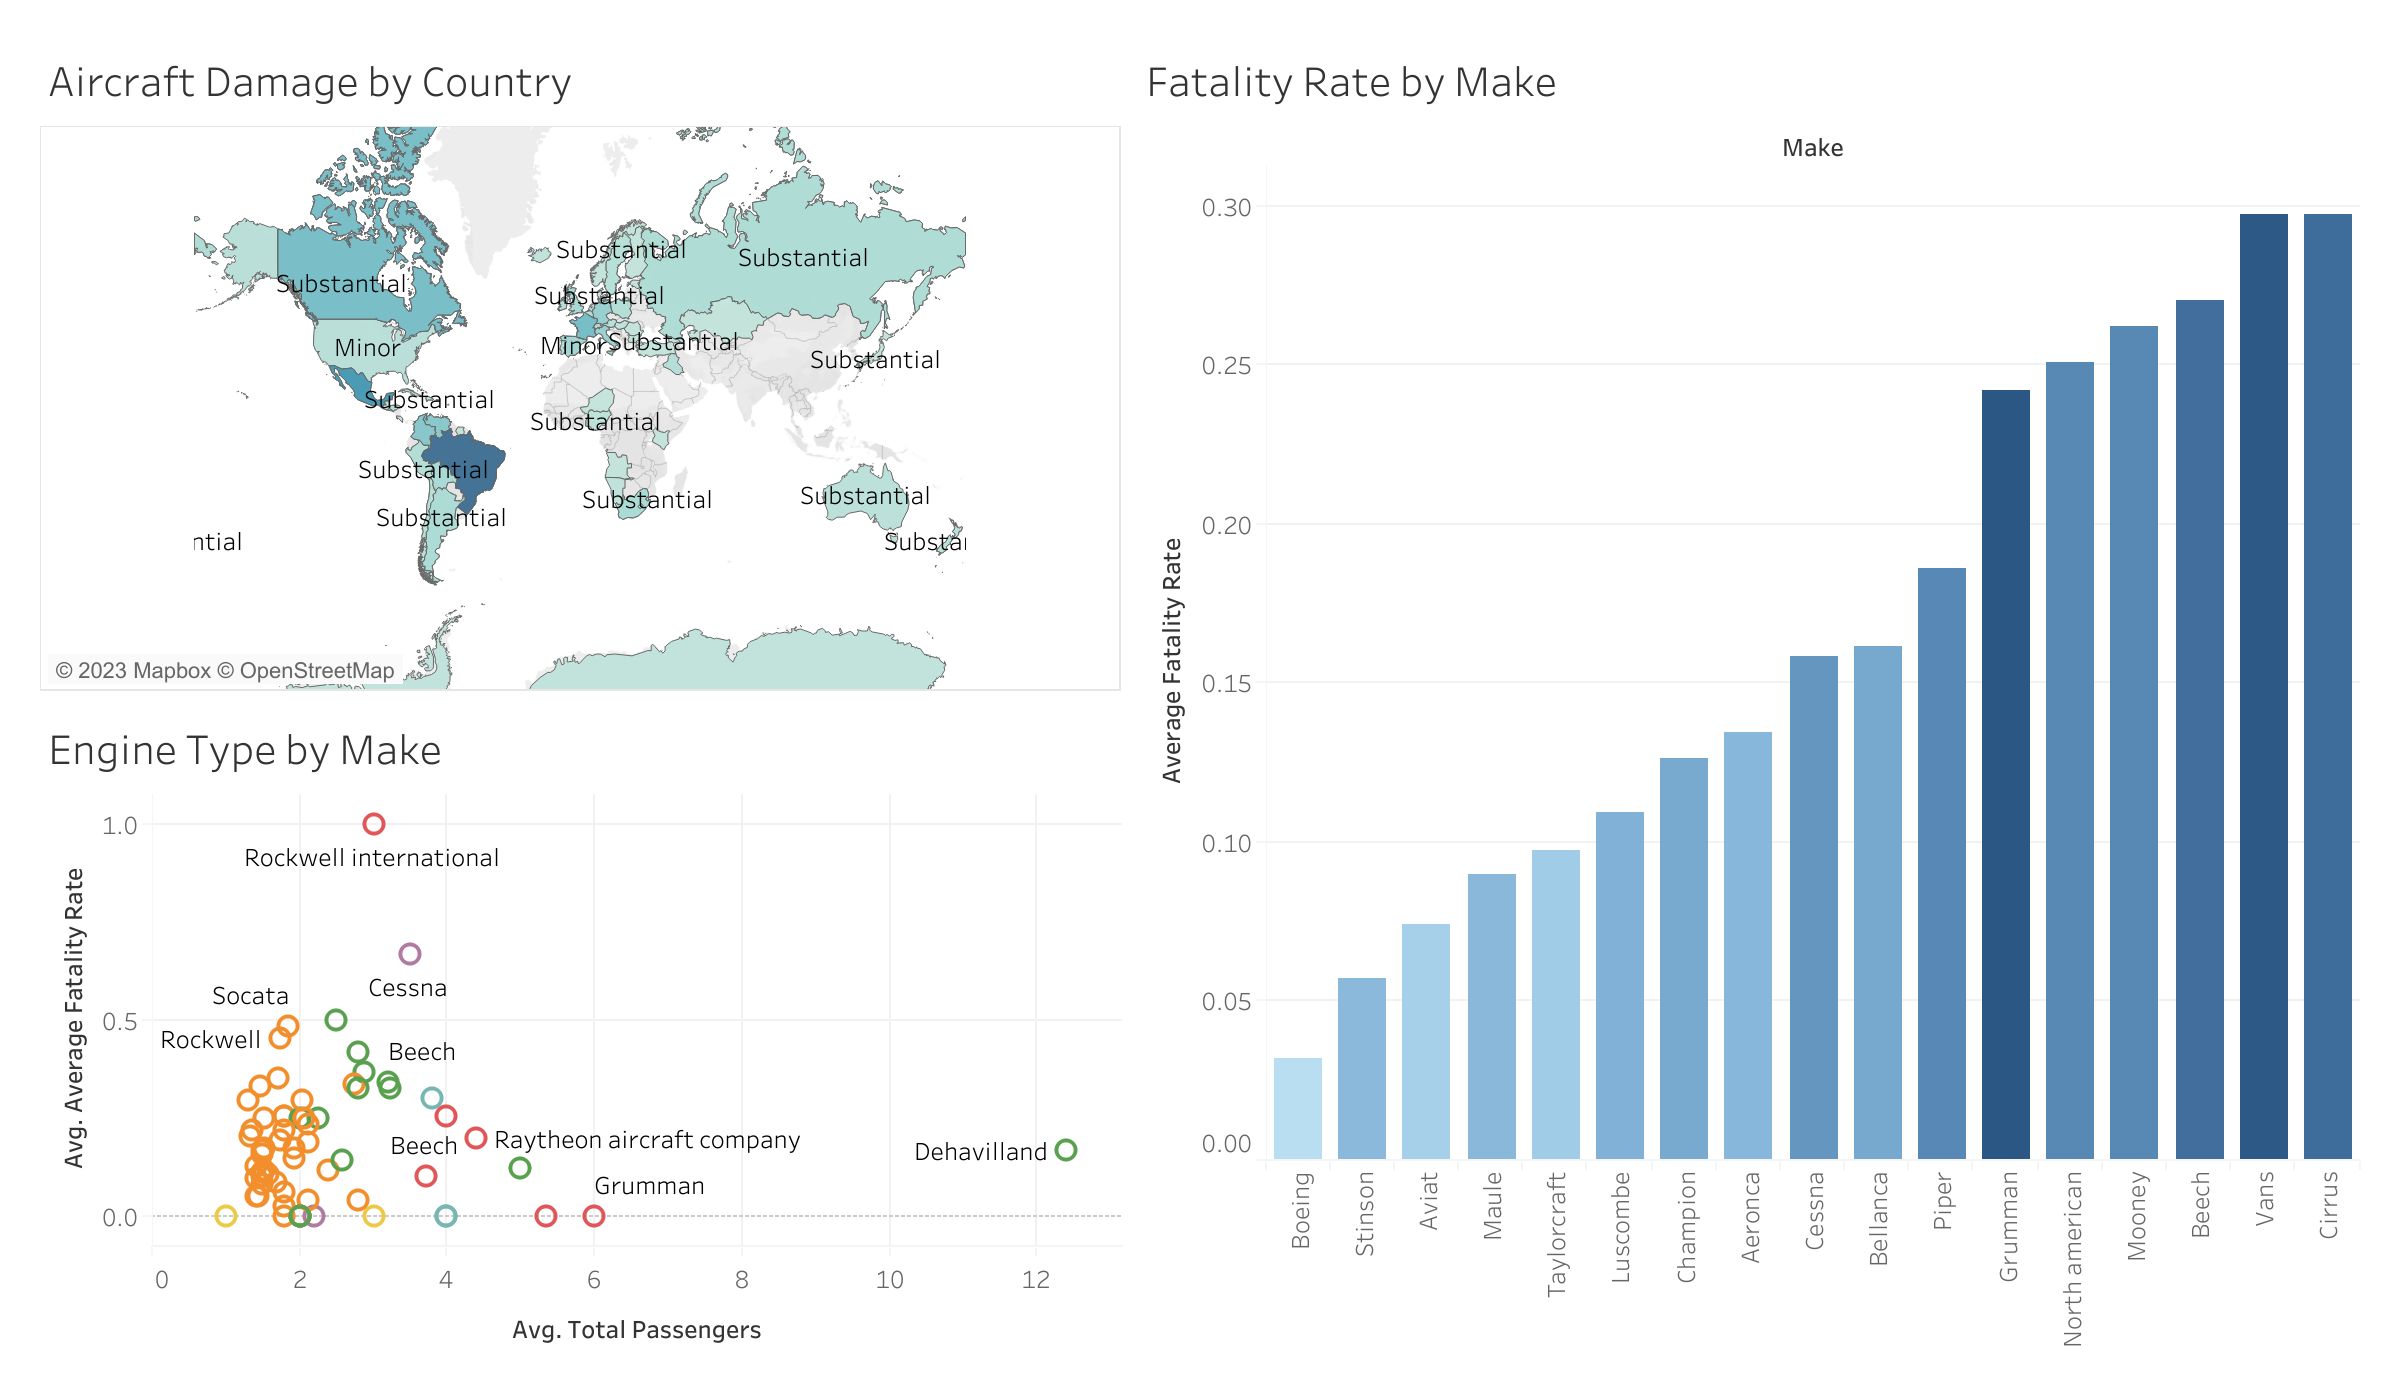

The dashboard page shown, as its layout file describes it:
{"tool":"tableau","page":{"name":"Dashboard 1","canvas":[1000,1000],"units":"permille","ordinal":0},"visuals":[{"type":"worksheet","title":"Sheet 15","mark":"Automatic","box":[13.3,22.4,457.5,477.6]},{"type":"worksheet","title":"Sheet 1","mark":"Automatic","rows":["Average Fatality Rate"],"cols":["Make"],"box":[470.8,22.4,515.8,955.1]},{"type":"worksheet","title":"Sheet 16","mark":"Automatic","rows":["Average Fatality Rate"],"cols":["Total Passengers"],"box":[13.3,500,457.5,477.6]}]}

Visuals, with their boxes on the dashboard's canvas, which has no fixed pixel size, in thousandths of its width and height (x1, y1, x2, y2). These are canvas units, not pixel positions in the 2398x1398 screenshot, which may show the page scaled, cropped or inside an application window:
"Sheet 15" worksheet: (left=13, top=22, right=471, bottom=500)
"Sheet 1" worksheet: (left=471, top=22, right=987, bottom=978)
"Sheet 16" worksheet: (left=13, top=500, right=471, bottom=978)
